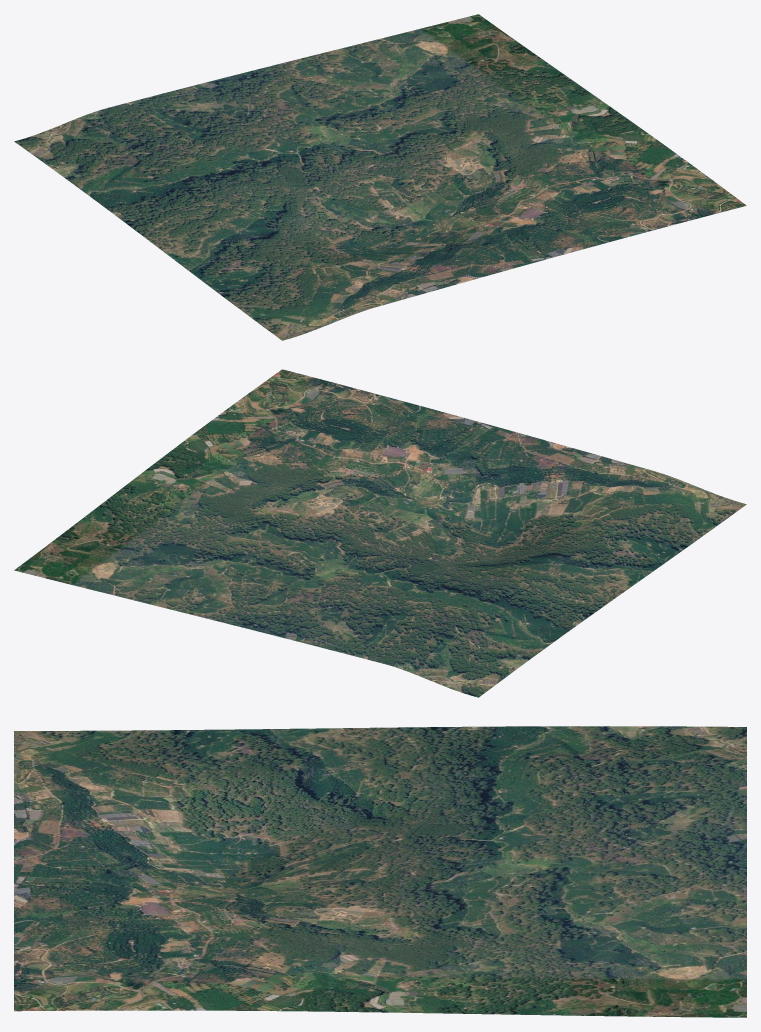
Rendered from terrain_real_T_E04_S03.glb.
3 renders of one model, top to bottom at view 1: azimuth 30°, elevation 25°; view 2: azimuth 150°, elevation 25°; view 3: azimuth 270°, elevation 25°, orthographic. The views are drawn at different scales.
Parts seen in each view (by area): view 1: Terrain_Real_DEM_T_E04_S03; view 2: Terrain_Real_DEM_T_E04_S03; view 3: Terrain_Real_DEM_T_E04_S03.
Part boxes in pixels (x1,y1,x2,y2): Terrain_Real_DEM_T_E04_S03: (14,14,746,340); Terrain_Real_DEM_T_E04_S03: (14,369,746,697); Terrain_Real_DEM_T_E04_S03: (14,726,746,1017).
Bounding box in the file's own units: 2000 × 140 × 2000.
Materials: 1 (1 with a texture image).
